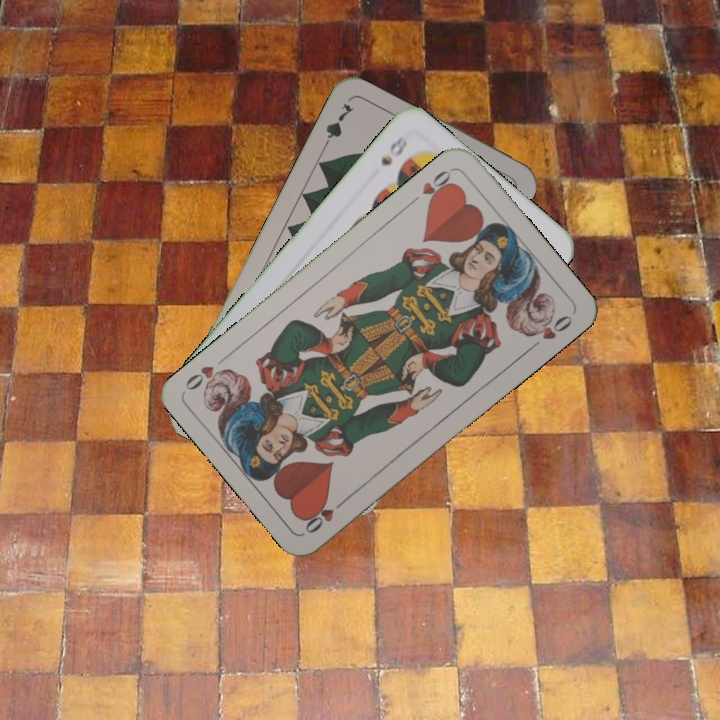G7: (318, 99, 357, 153)
HO: (405, 165, 457, 208), (301, 494, 350, 536)
S8: (376, 130, 410, 169)
